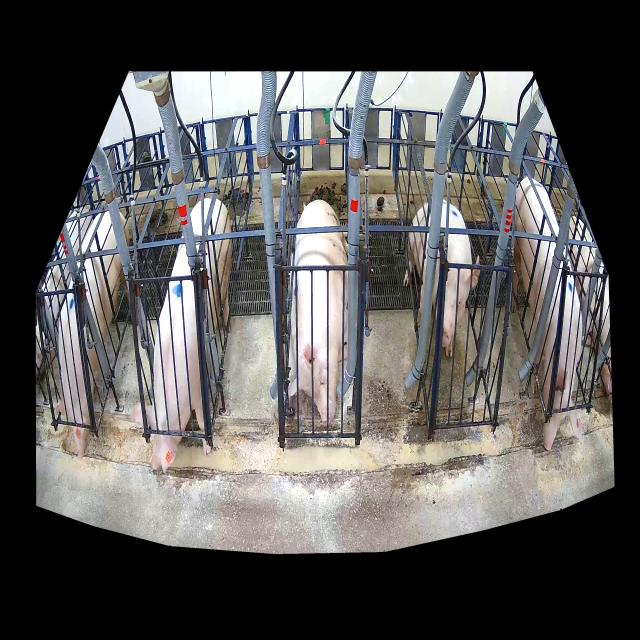pig: (131, 199, 232, 472), (510, 177, 582, 450), (55, 211, 130, 458), (288, 199, 348, 427), (404, 199, 480, 357)
